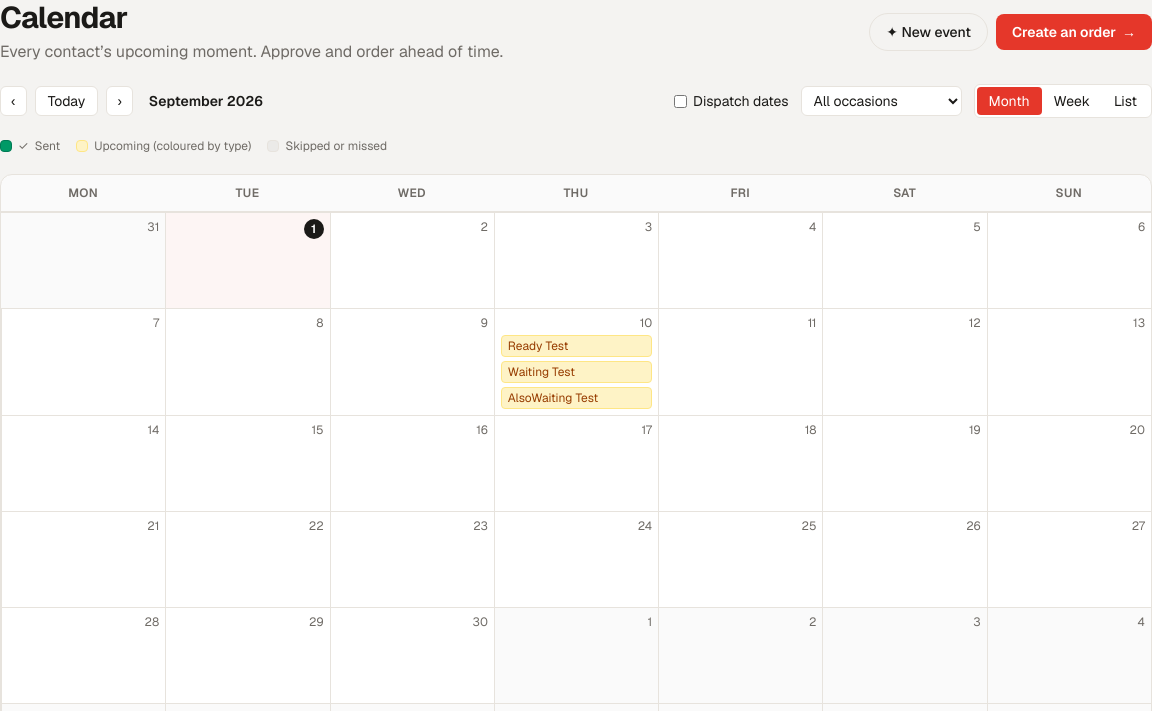
Test: CalendarClient list view selection › says how many are ready to order, and routes the rest to Approvals
What coordinates should you click on to do the following:
click the button "list"
I would click on:
 (1126, 101)
Its box is x1=1102 y1=87 x2=1149 y2=115.
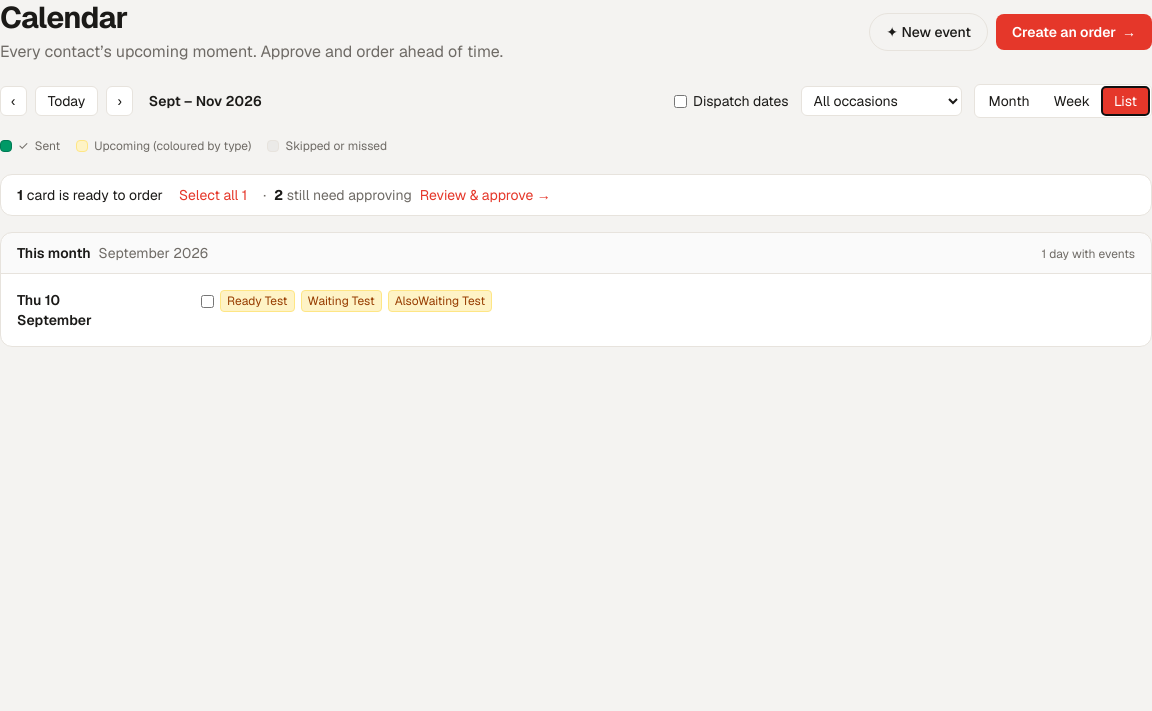
Result: the text "ready to order" shows "1 card is ready to order" at x1=0 y1=174 x2=1151 y2=216
Result: the text "ready to order" shows "2 still need approving" at x1=0 y1=174 x2=1151 y2=216
